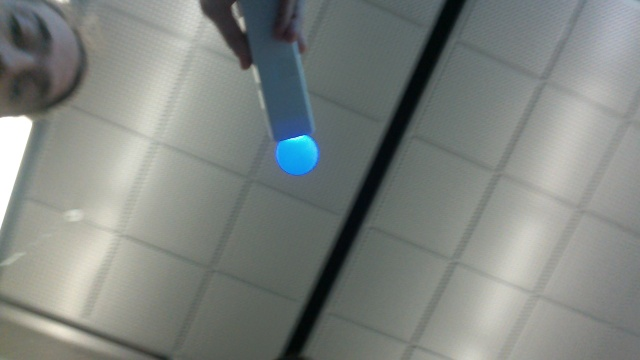wand: (275, 134, 318, 177)
